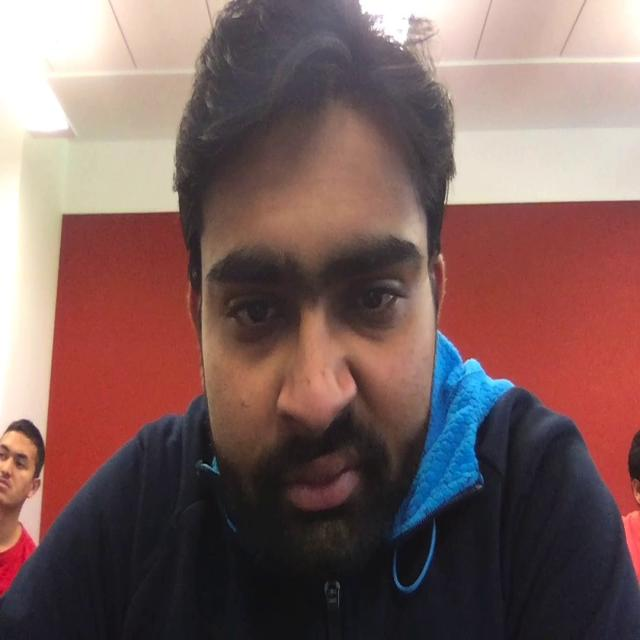sem_oculos: (187, 228, 456, 356), (0, 432, 40, 487)
